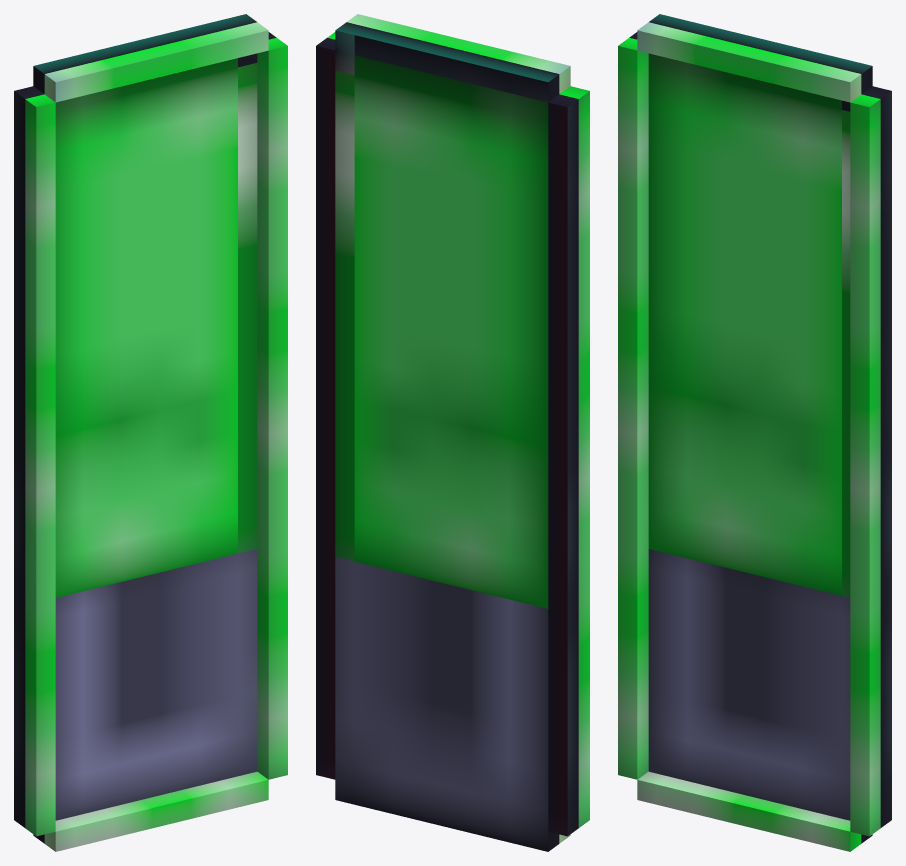
File: Billboard_LifeBar_00.fbx
3 renders of one model, left to right at view 1: azimuth 30°, elevation 25°; view 2: azimuth 150°, elevation 25°; view 3: azimuth 330°, elevation 25°, orthographic.
Visible parts, largest first — view 1: Billboard_LifeBar_00; view 2: Billboard_LifeBar_00; view 3: Billboard_LifeBar_00.
Part boxes in pixels (<box>): Billboard_LifeBar_00: <box>14,14,287,851</box>; Billboard_LifeBar_00: <box>316,14,589,851</box>; Billboard_LifeBar_00: <box>618,14,891,851</box>.
Size of the model in its own units: 65 by 190 by 10.
